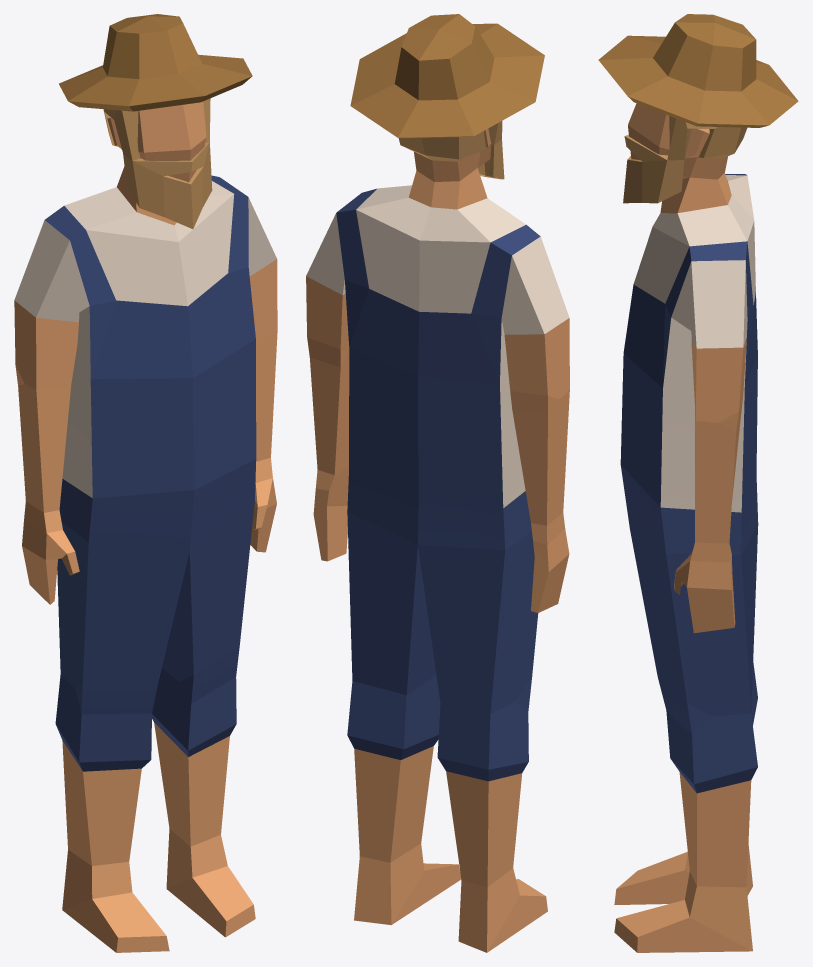
File: people_man-farm.fbx
3 views of the same model, side by side, from view 1: azimuth 30°, elevation 25°; view 2: azimuth 150°, elevation 25°; view 3: azimuth 270°, elevation 25° (orthographic).
Visible parts, largest first — view 1: people_man_farm; view 2: people_man_farm; view 3: people_man_farm.
Part boxes in pixels (x1,y1,x2,y2): people_man_farm: [14, 14, 277, 952]; people_man_farm: [306, 14, 569, 952]; people_man_farm: [598, 14, 798, 952].
Bounding box in the file's own units: 56.9 × 200 × 40.47.
